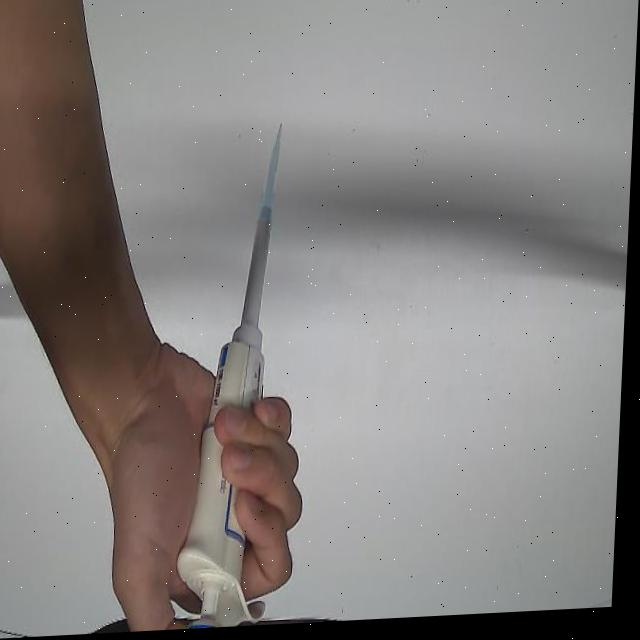Single Channel Pipettor: (176, 205, 297, 631)
